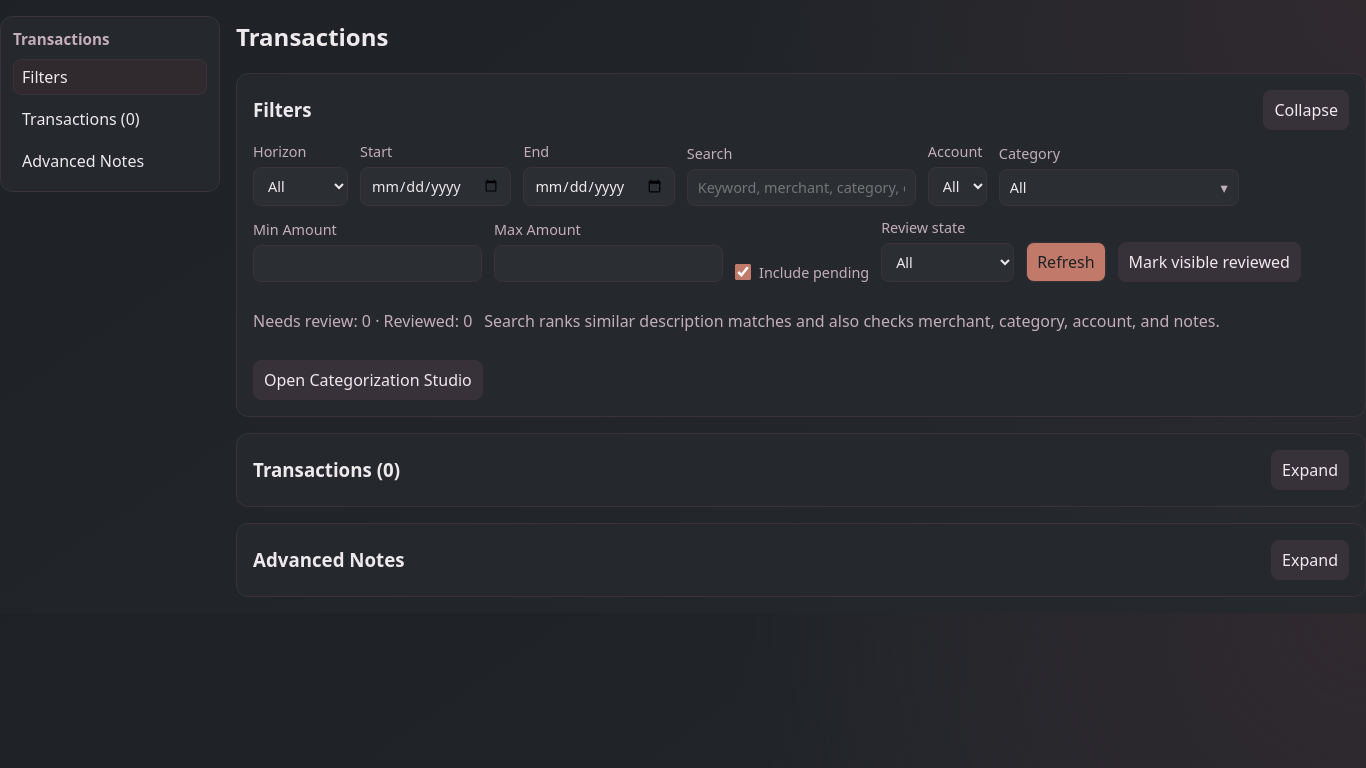
Test: TransactionsPage rule feedback › shows rule applied count after creating a rule from transaction
Click the 1st button titled "Expand Transactions" at coordinates (1310, 470), box 1271,450 -> 1349,490
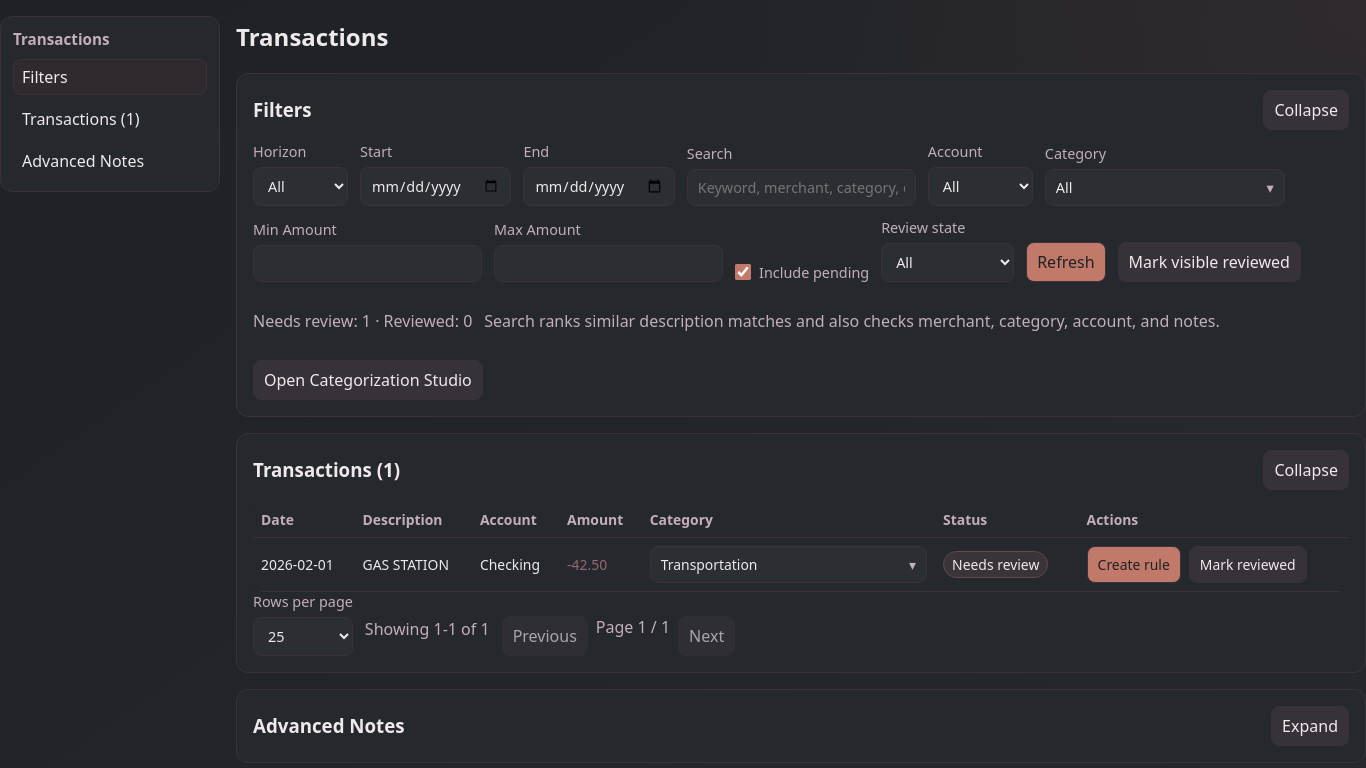
Expected: the text "GAS STATION" is shown, 354,537 -> 472,591
Click the button "Create rule" at coordinates (1134, 564), box 1087,546 -> 1181,583
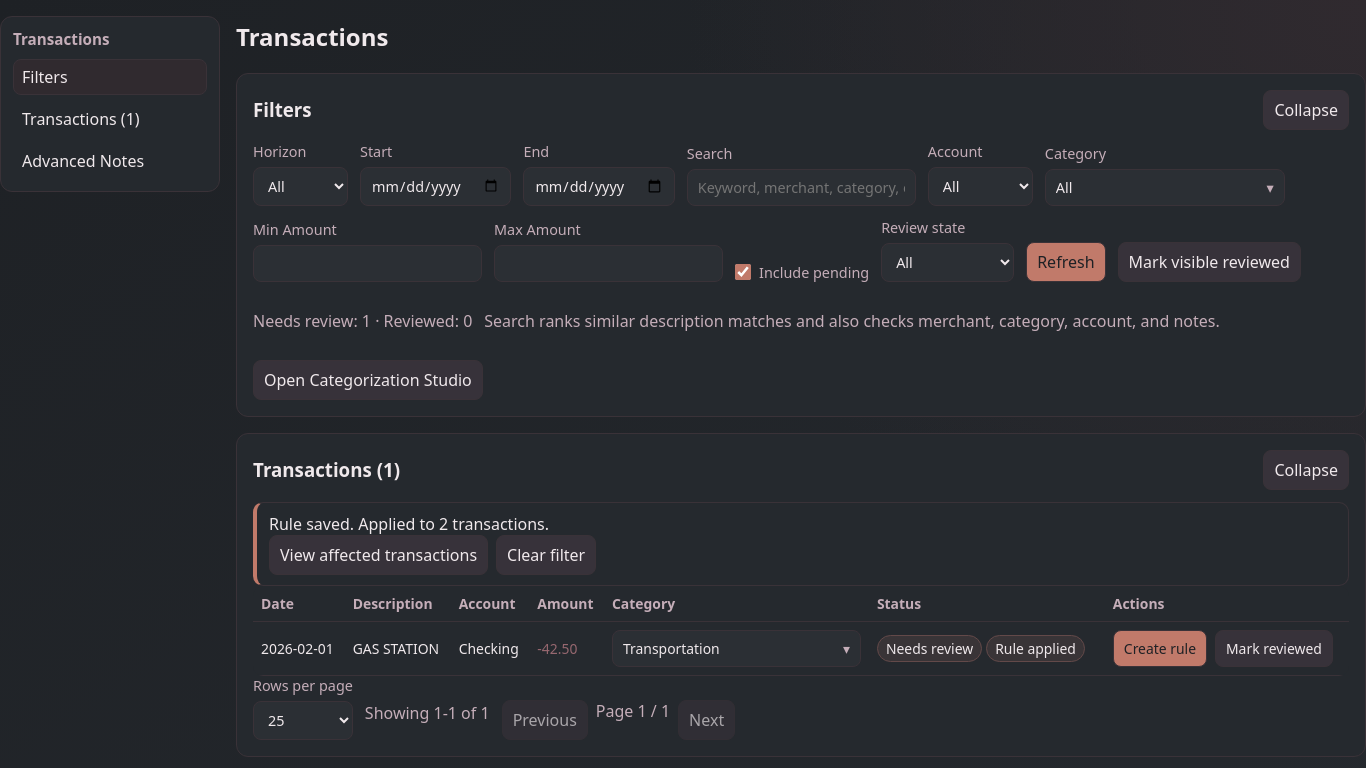
Expected: the text "Applied to 2 transactions" is shown, 253,502 -> 1349,586
